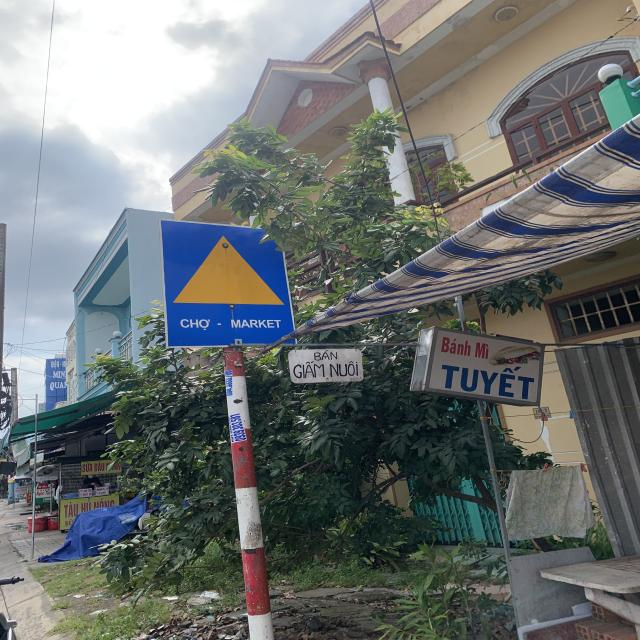Cho_Quay_Xe: (160, 221, 293, 347)
